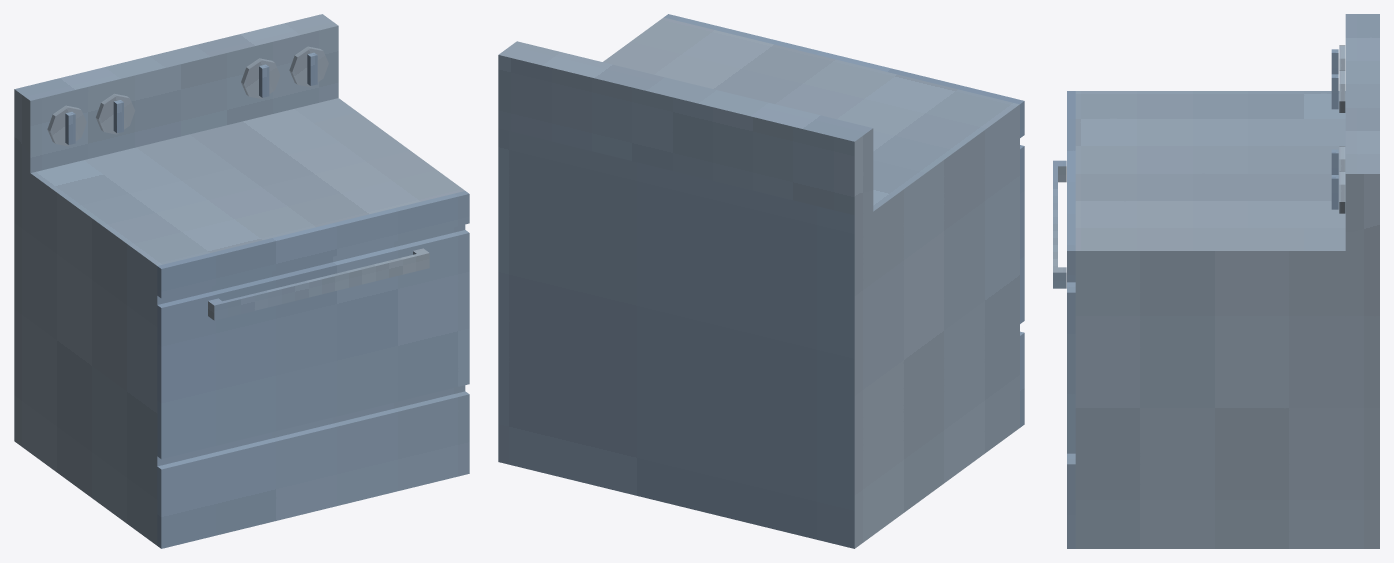
The picture shows the model from 3 angles, left to right: view 1: azimuth 30°, elevation 25°; view 2: azimuth 150°, elevation 25°; view 3: azimuth 270°, elevation 25°; orthographic projection. The views are drawn at different scales.
Parts seen in each view (by area): view 1: Stove; view 2: Stove; view 3: Stove.
Boxes of the visible parts, x1,y1,x2,y2 form: Stove: [14, 14, 469, 548]; Stove: [498, 14, 1024, 548]; Stove: [1053, 14, 1379, 548].
Size of the model in its own units: 25.46 by 27.81 by 21.98.
Materials: 1 (1 with a texture image).
